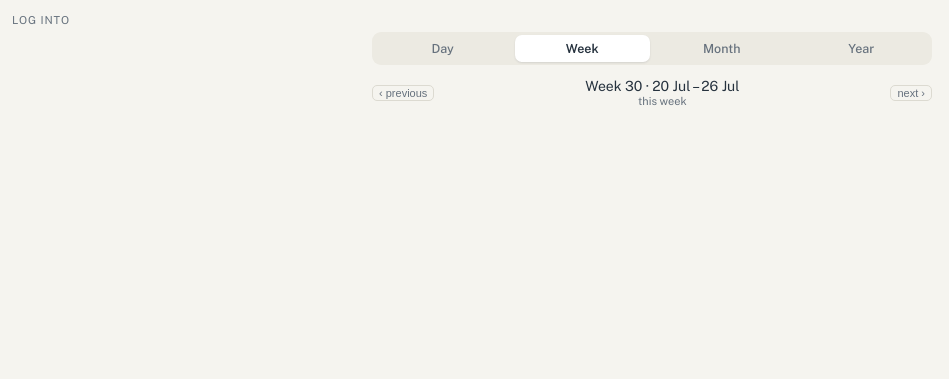
Test case: the panel offers the kind of page being chosen, not a day standing in for it
This screenshot has width=949, height=379.
What coordinates should you click on to do the following:
click the button with aria-label "choose a different week"
I would click on:
 (662, 92)
Its box is x1=442 y1=73 x2=882 y2=112.
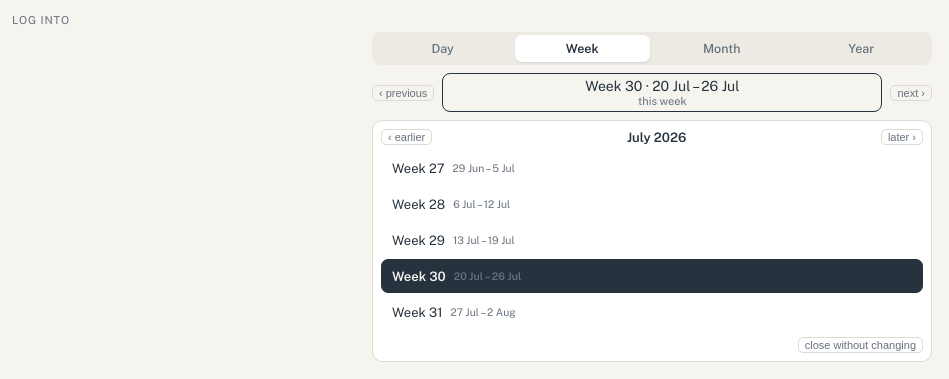
Now the button with aria-label "Week 31 · 27 Jul – 2 Aug" is shown, box x1=381 y1=295 x2=923 y2=329
